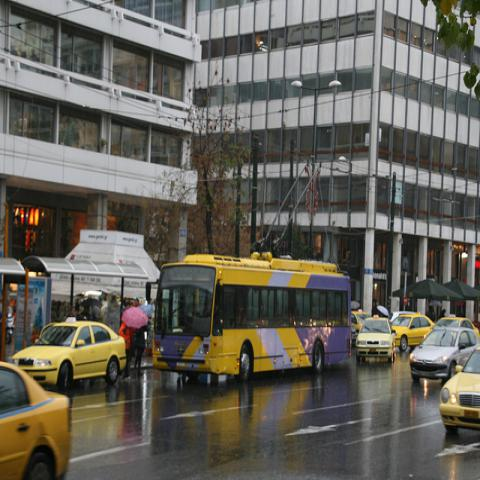bus: (142, 252, 356, 403)
car: (11, 317, 126, 391), (0, 361, 71, 480), (408, 326, 479, 388), (440, 347, 480, 435), (353, 312, 397, 366), (391, 312, 435, 352), (424, 316, 480, 346), (351, 312, 370, 331), (389, 311, 416, 322)
